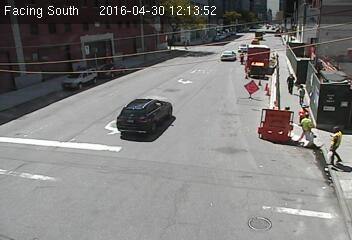neg: (249, 92, 268, 118), (89, 153, 108, 178), (186, 108, 203, 131), (58, 63, 74, 85), (257, 51, 273, 72), (130, 13, 146, 34), (183, 182, 198, 203), (241, 185, 256, 205), (230, 4, 243, 22), (122, 208, 134, 225), (144, 95, 156, 111), (175, 62, 186, 76)
pos: (319, 123, 351, 166), (293, 112, 319, 146), (292, 102, 315, 132), (279, 69, 299, 95), (293, 83, 310, 105), (237, 51, 247, 64), (181, 37, 191, 50)
